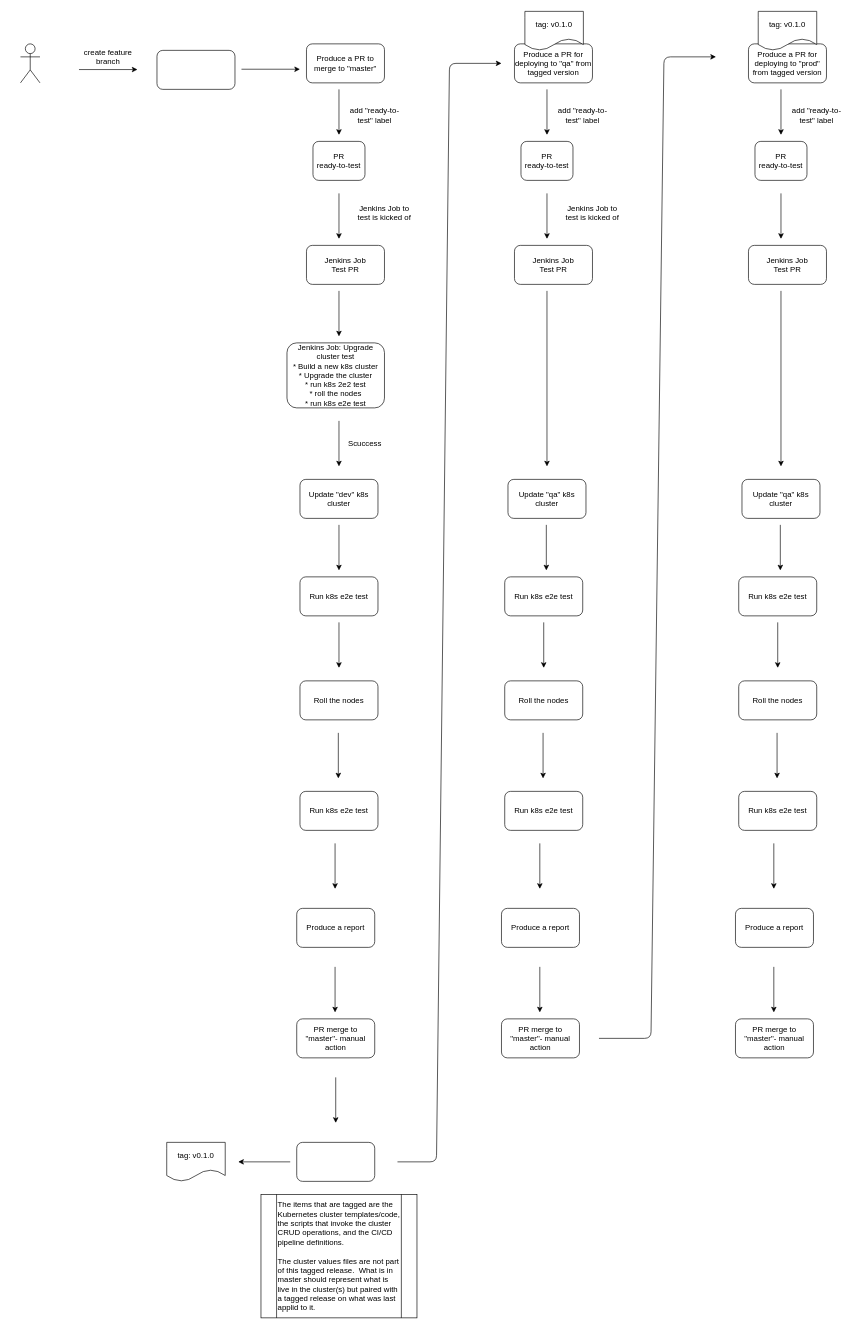
The diagram is 857 pixels wide and 1329 high, and some of its shapes have lost their labels. Here are the shapes that lost their labels. From the top down, the box of each, then its label:
(20, 43, 40, 83): `Developer
(156, 50, 235, 89): "my-feature" Branch
(296, 1142, 375, 1181): Tag this and bump the version on the release
